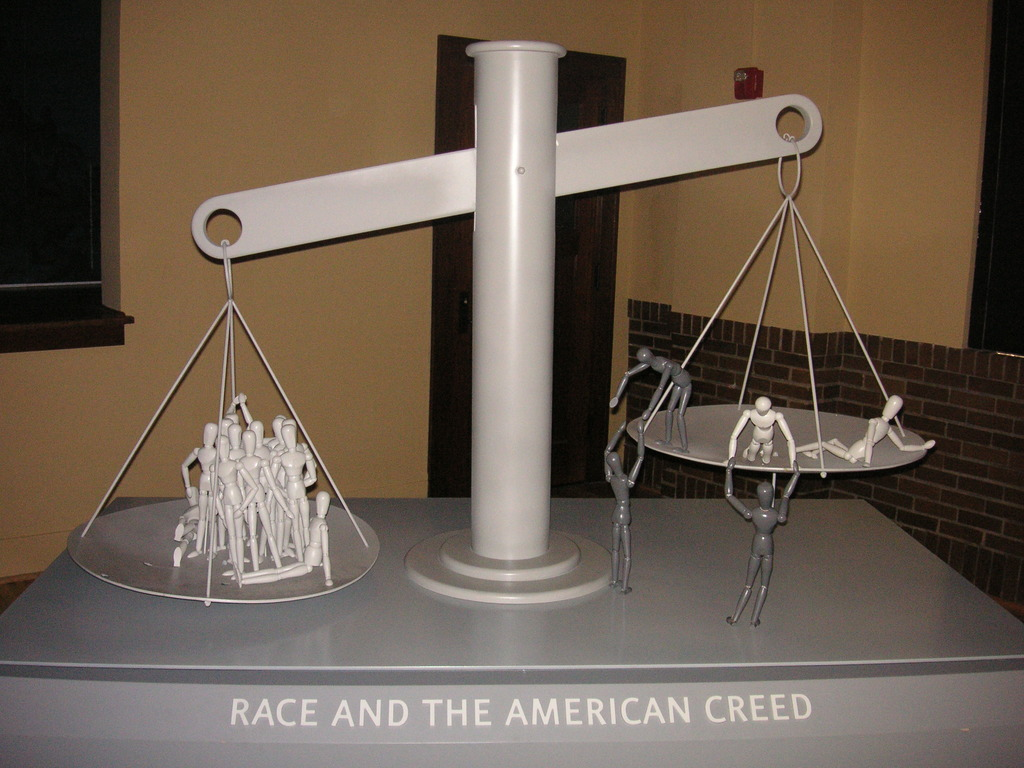person: (727, 394, 797, 466)
